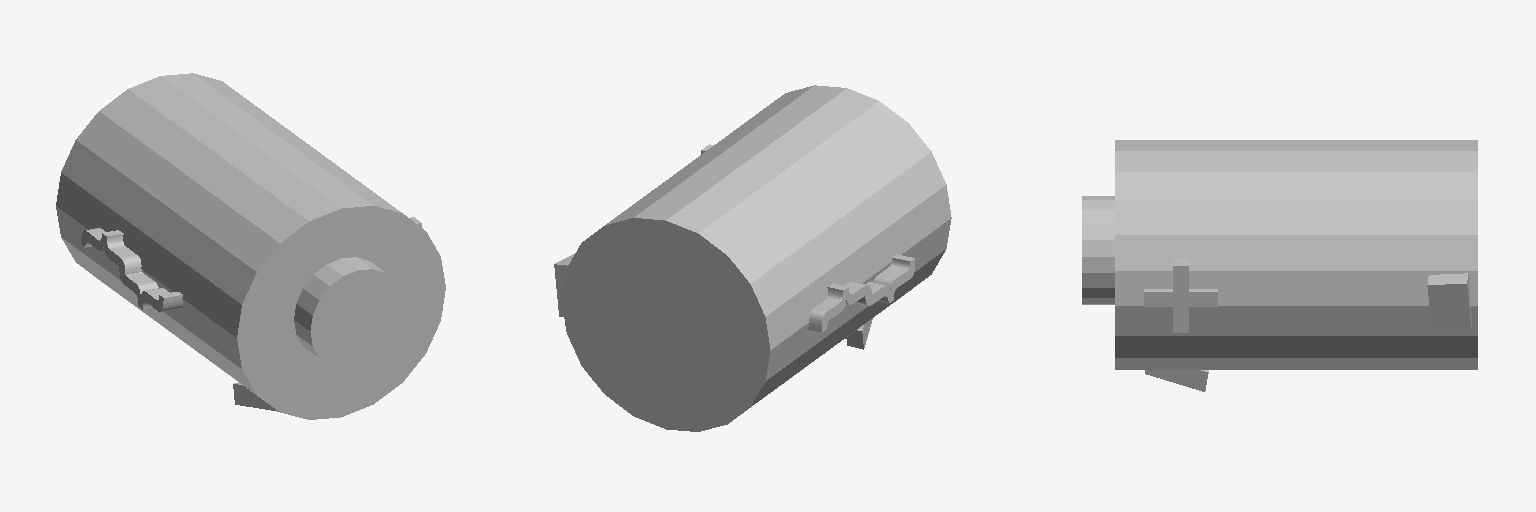
File: tinker 5.obj
3 views of the same model, side by side, from view 1: azimuth 30°, elevation 25°; view 2: azimuth 150°, elevation 25°; view 3: azimuth 270°, elevation 25° (orthographic).
Visible parts, largest first — view 1: obj_0; view 2: obj_0; view 3: obj_0.
Part boxes in pixels (left/top/right/bottom): obj_0: left=56, top=73, right=445, bottom=419; obj_0: left=554, top=85, right=951, bottom=431; obj_0: left=1082, top=140, right=1477, bottom=391.
Size of the model in its own units: 50.66 by 43 by 72.